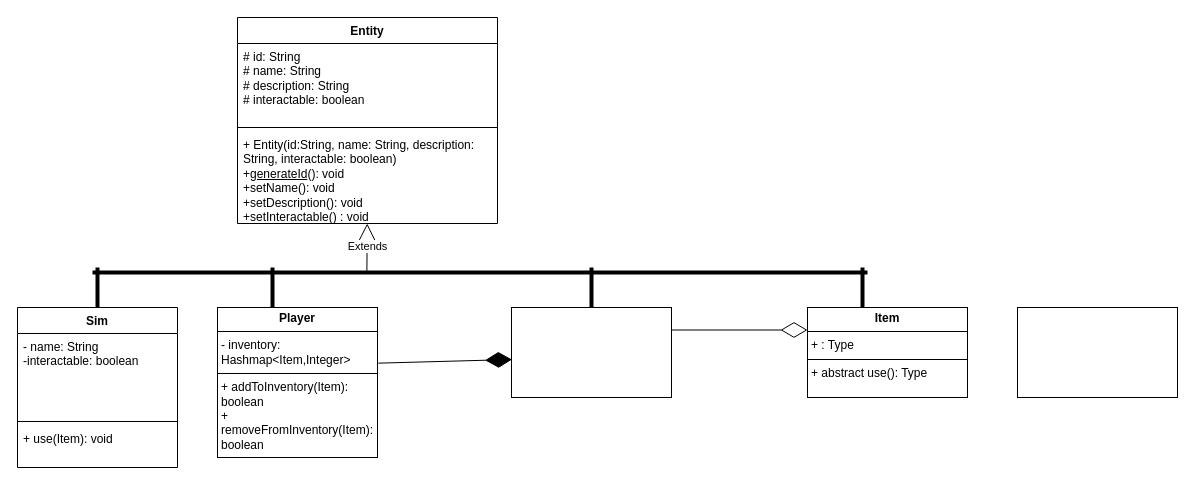
The diagram is 1195 pixels wide and 488 high, and some of its shapes have lost their labels. The shapes that lost their labels are listed below. From the top down, each one's centre as x and y in pixels, then its label:
At (591,352): "Inventory + field: Type + method(): Type".
At (1097,352): "Lot + field: Type + method(): Type".
